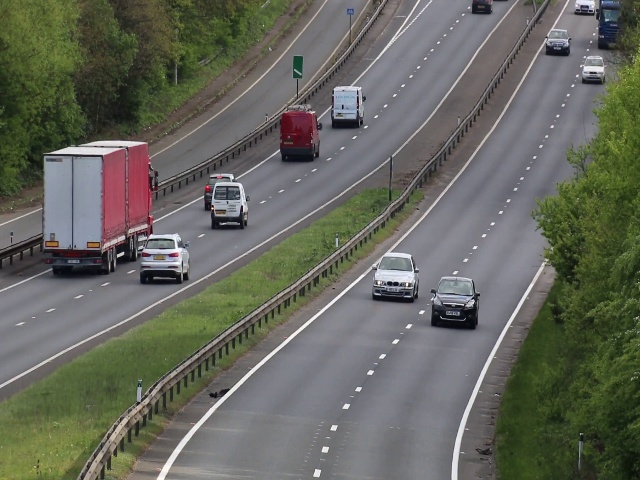car: (41, 136, 164, 276), (430, 269, 478, 334), (374, 248, 419, 306), (281, 104, 320, 166), (141, 236, 191, 283), (210, 183, 249, 229), (329, 86, 368, 129), (579, 54, 605, 85), (545, 26, 572, 55)
